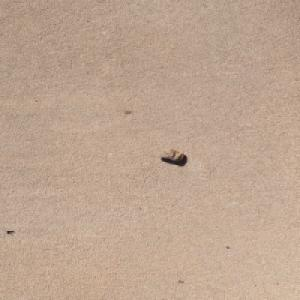Rock: (155, 148, 184, 161)
